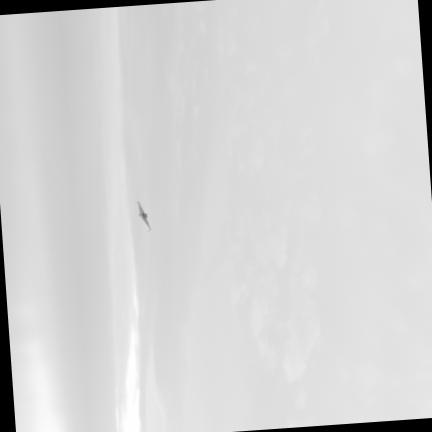Shahed: (132, 201, 150, 232)
